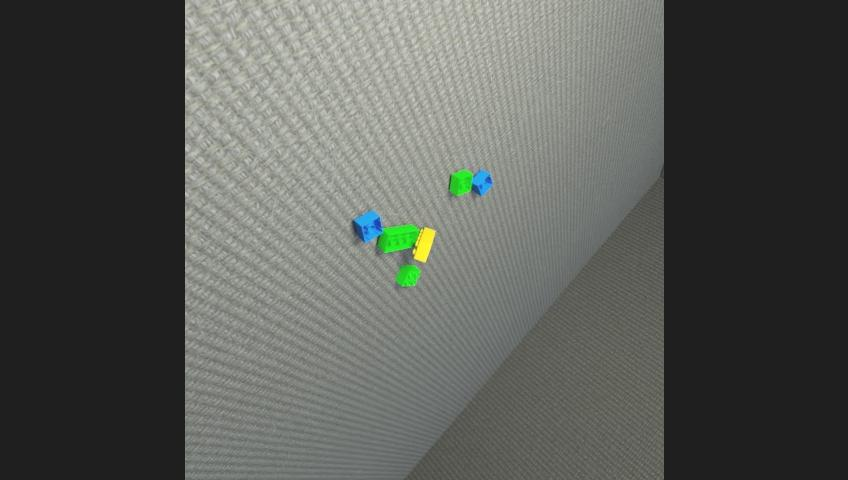2x2_blue: (354, 210, 383, 242), (471, 169, 493, 195)
2x2_green: (449, 170, 473, 195), (395, 265, 420, 285)
4x2_green: (377, 224, 419, 251)
4x2_yellow: (413, 227, 435, 261)
